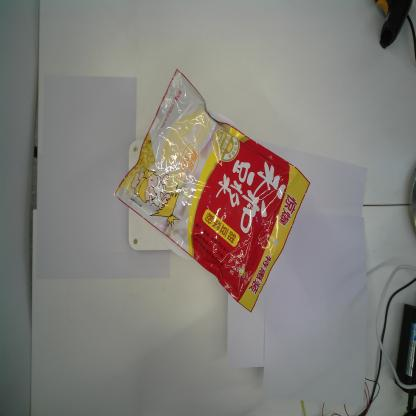Instant Drink: (112, 69, 311, 313)
